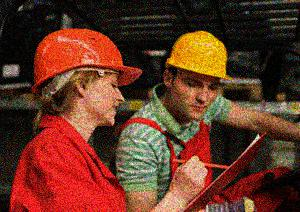helmet: (33, 27, 144, 128), (164, 30, 234, 121)
